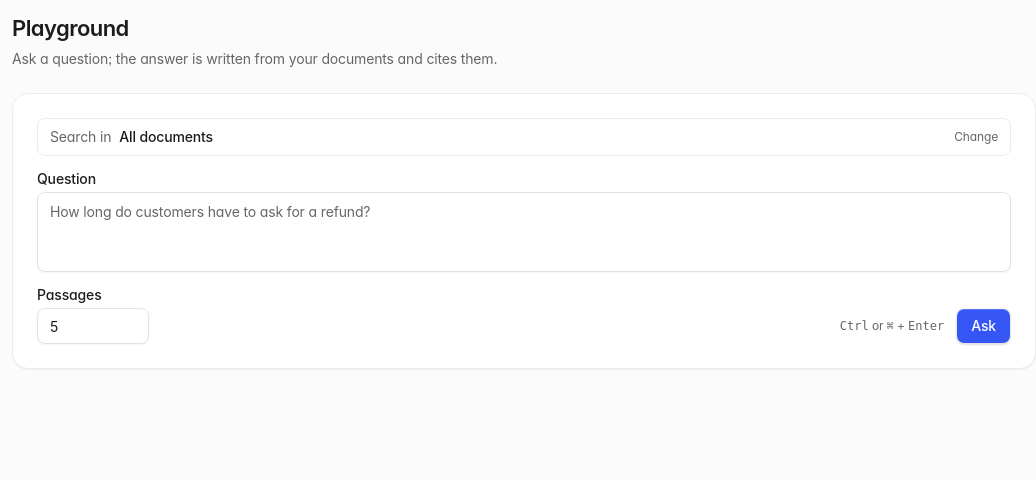
it: PlaygroundContainer (mocked API) › a provider outage shows the API's message
The width and height of the screenshot is (1036, 480).
Type "Hello?" into the text box labelled "Question" at (524, 232), box [37,192,1011,272]
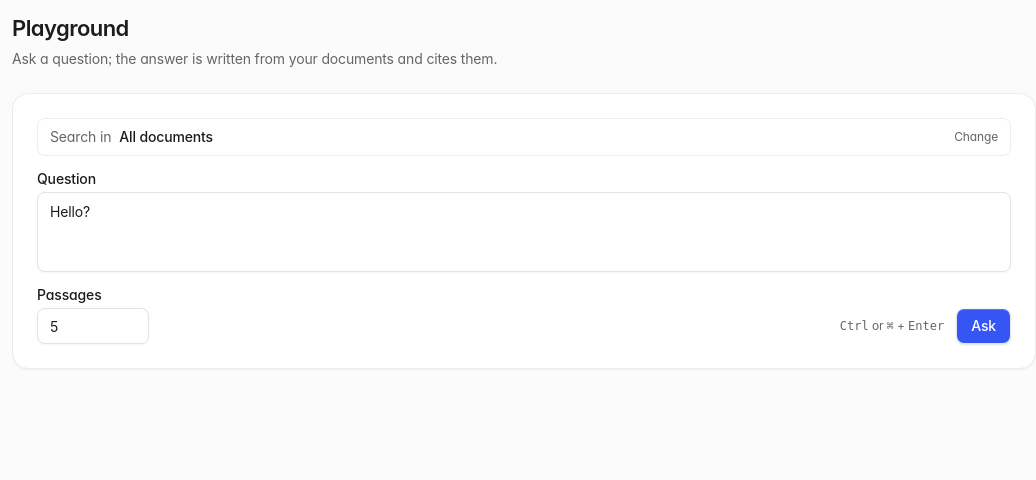
Replace the text in the number field labelled "Passages" with "3" at (93, 326), box [37,308,149,344]
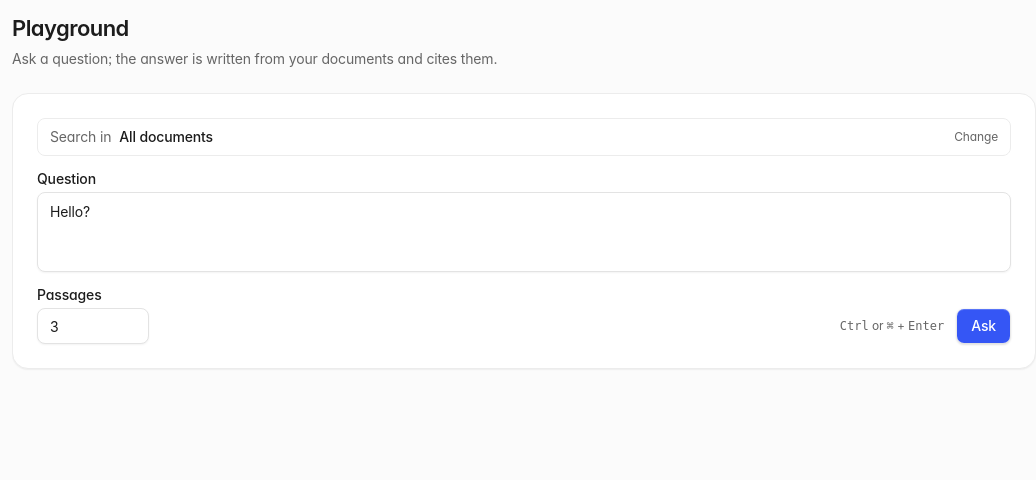
Click the button "Ask" at (984, 326), box [956,308,1011,344]
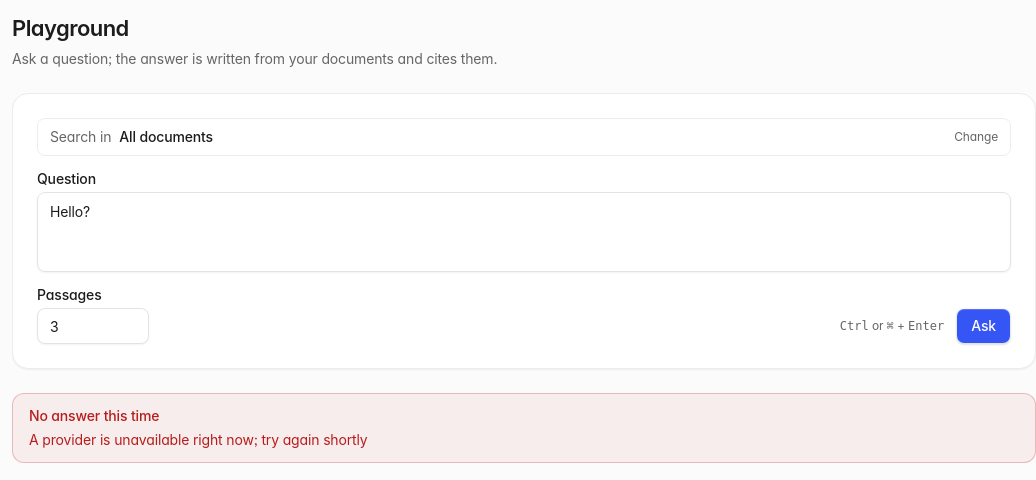
Expected: the text "A provider is unavailable right now; try again shortly" is shown, [29,431,368,448]
